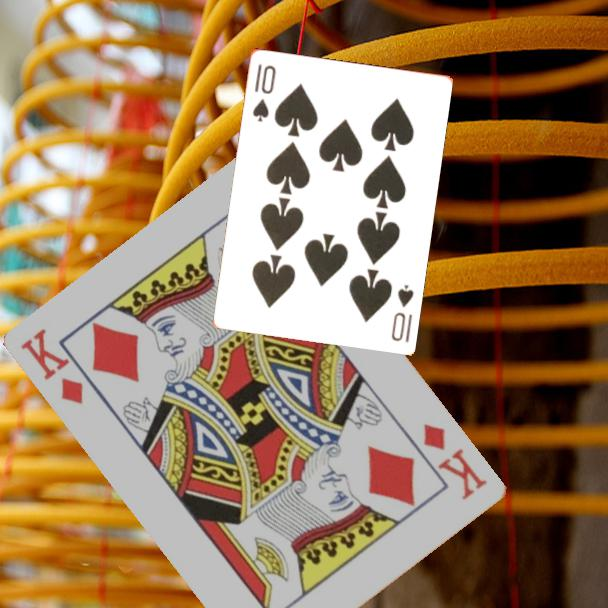d13: (420, 420, 491, 503), (17, 325, 87, 408)
s10: (249, 60, 278, 124), (388, 281, 416, 345)
